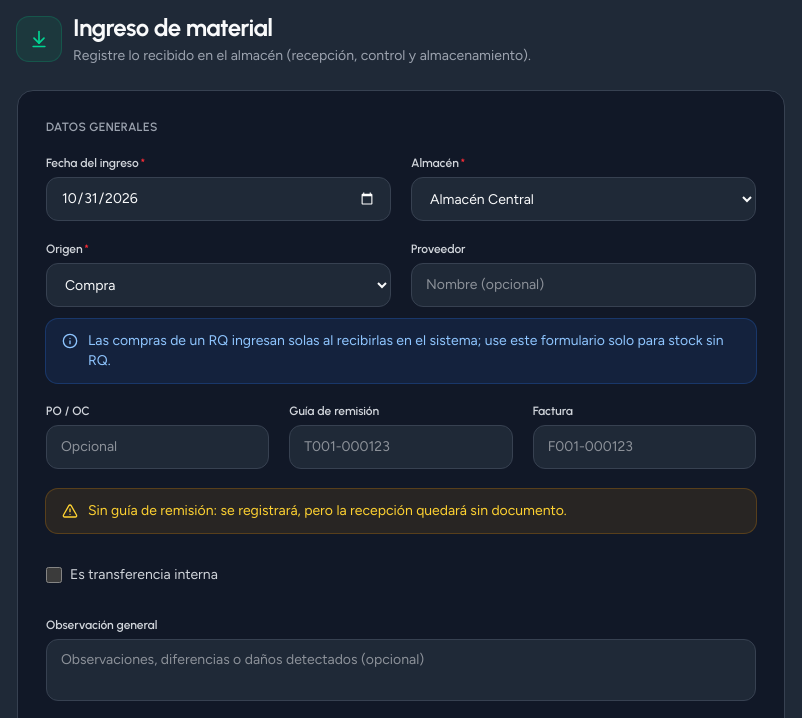
Test case: EntradaPage — aviso de las compras de un RQ › está en una región viva siempre montada, para que el cambio de origen se anuncie
Check: the text "Las compras de un RQ ingresan solas al recibirlas en el sistema; use este formulario solo para stock sin RQ." is shown, box top-left (88, 332), bottom-right (724, 369)
Select "Ajuste" in the dropdown labelled "Origen*" at x=218, y=285, box top-left (46, 263), bottom-right (391, 307)
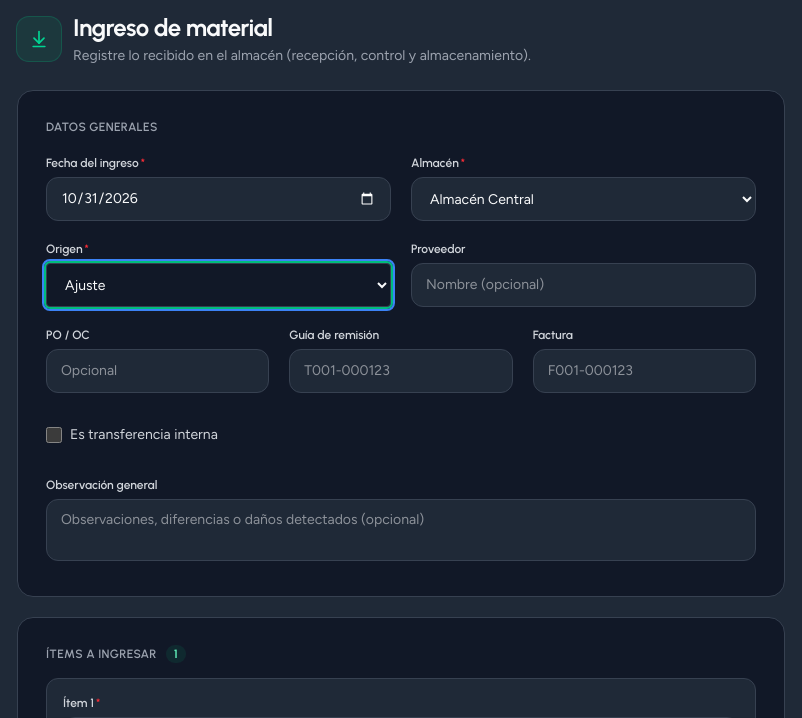
Select "Compra" in the dropdown labelled "Origen*" at x=218, y=285, box top-left (46, 263), bottom-right (391, 307)
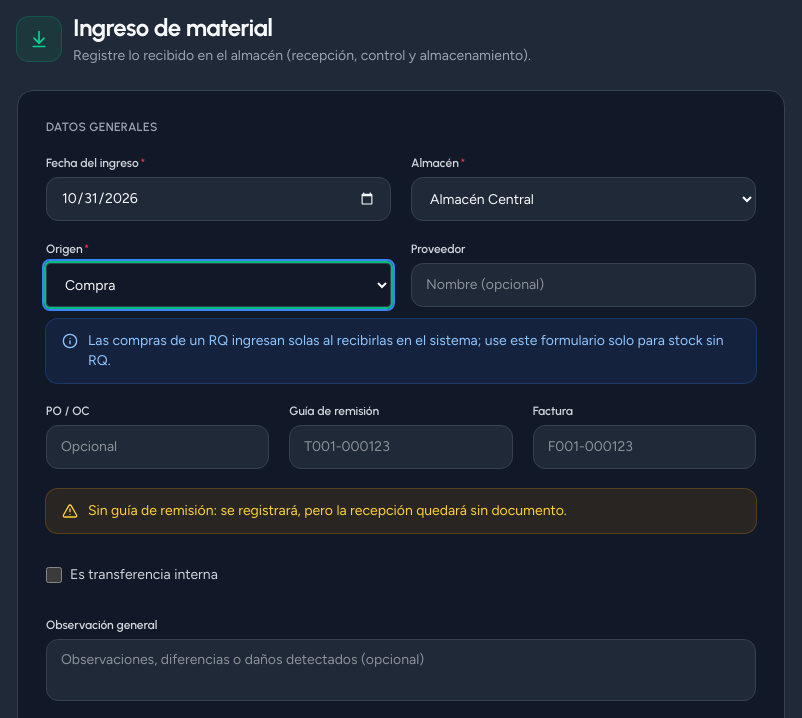
Check: the text "Las compras de un RQ ingresan solas al recibirlas en el sistema; use este formulario solo para stock sin RQ." is shown, box top-left (88, 332), bottom-right (724, 369)
